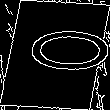O_E: (3, 31, 107, 79)
